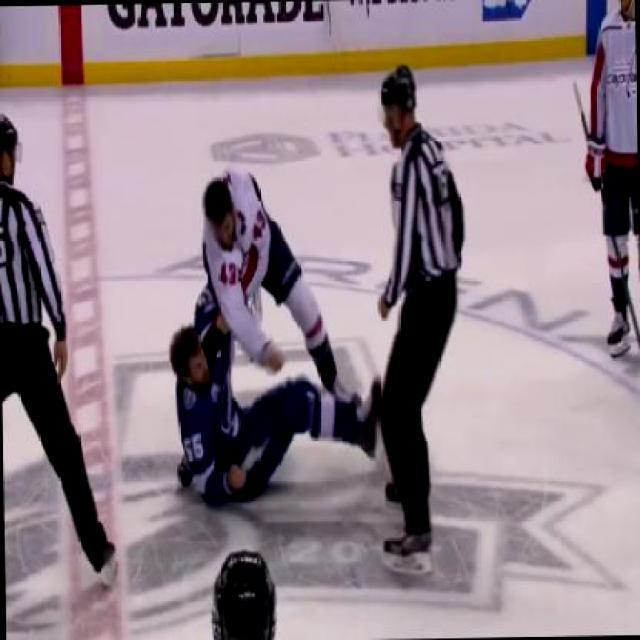fight: (165, 168, 350, 496)
non-fight: (364, 67, 470, 584), (0, 108, 97, 590), (582, 0, 638, 368)
